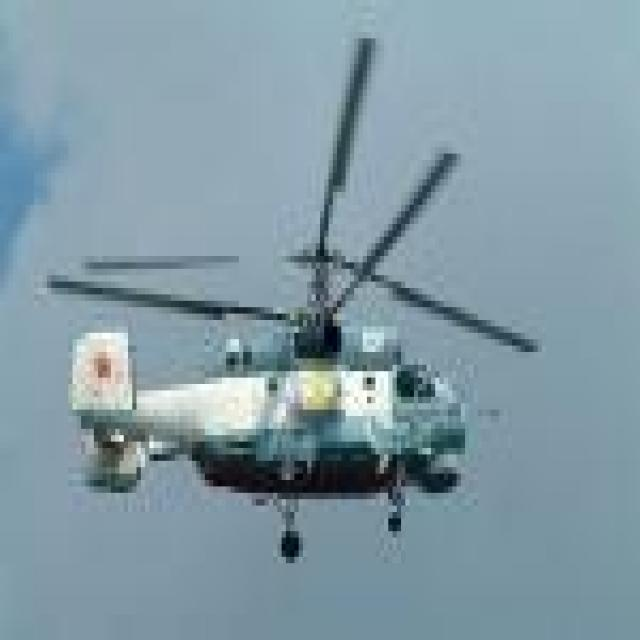MIL_HELO: (34, 34, 542, 567)
